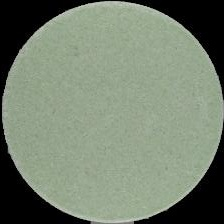69189-1695: (0, 0, 224, 224)
